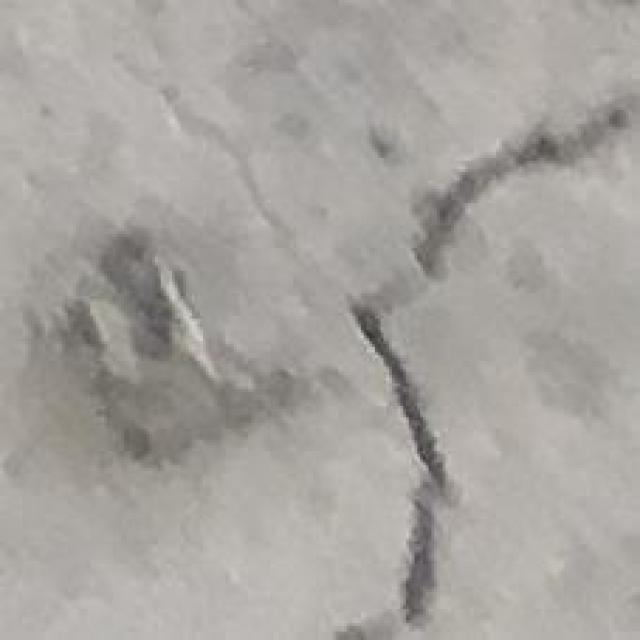Crack: (335, 90, 640, 640)
